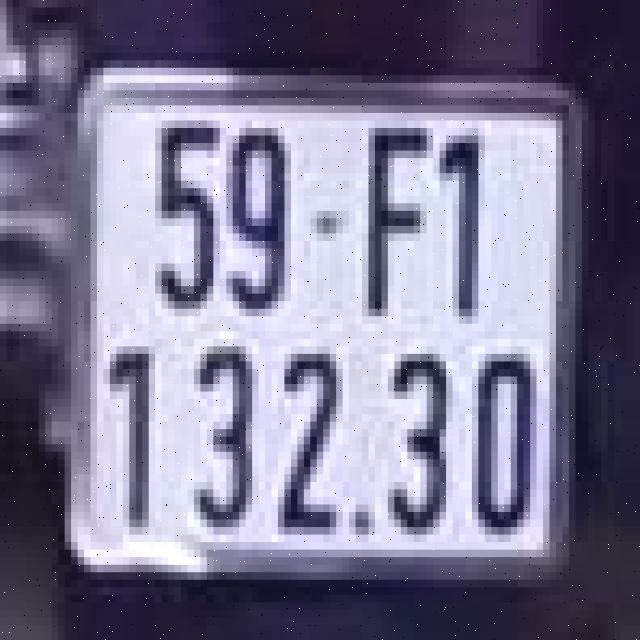0: (459, 339, 549, 565)
1: (97, 316, 168, 557), (443, 109, 501, 328)
2: (265, 328, 356, 554)
3: (178, 320, 255, 546), (375, 335, 452, 546)
5: (142, 105, 226, 324)
9: (220, 98, 297, 331)
F: (343, 113, 446, 324)
